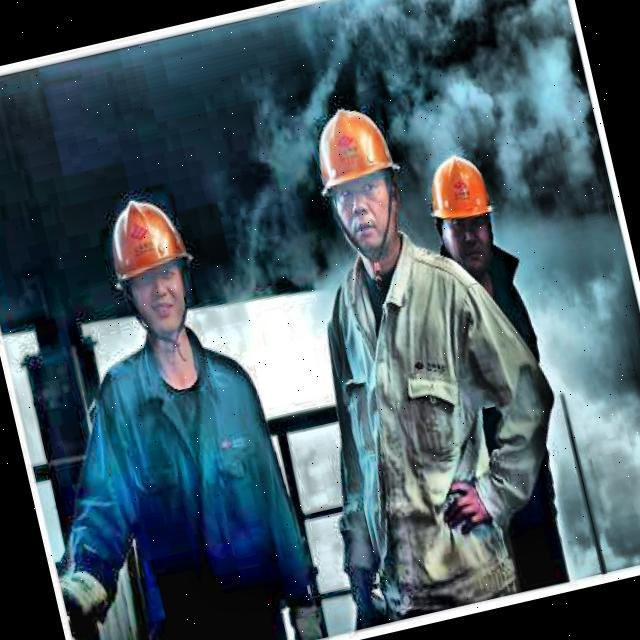helmet: (290, 86, 420, 277), (98, 174, 218, 356), (412, 134, 514, 284)
